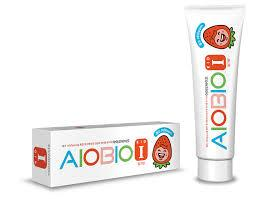toothpaste: (182, 6, 247, 188)
